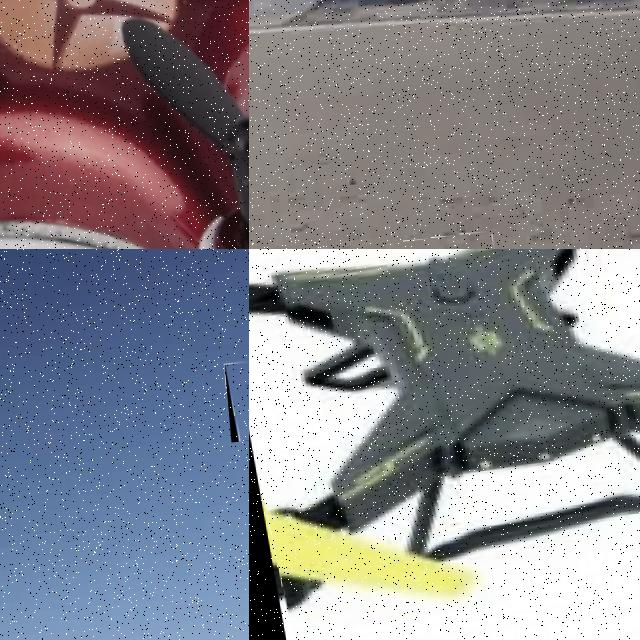0: (224, 352, 249, 442)
drone: (249, 249, 640, 640), (0, 0, 249, 249)
